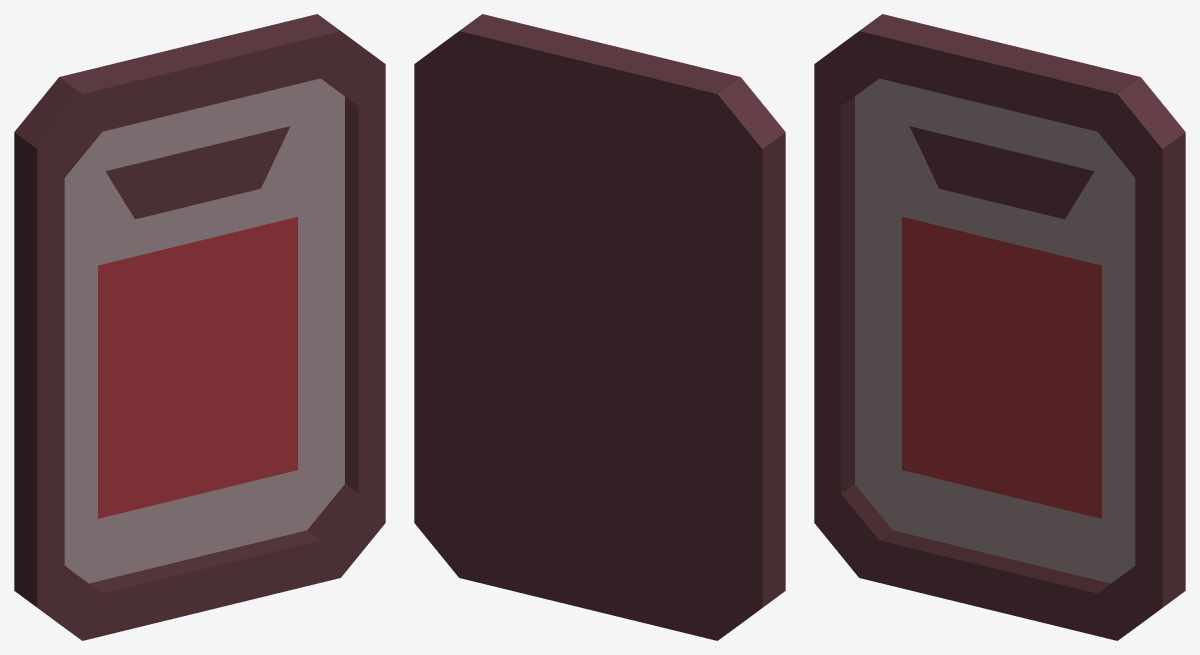
File: scifi-banner-small-vertical.fbx
The picture shows the model from 3 angles, left to right: view 1: azimuth 30°, elevation 25°; view 2: azimuth 150°, elevation 25°; view 3: azimuth 330°, elevation 25°; orthographic projection.
Parts seen in each view (by area): view 1: scifi-banner-small-vertical; view 2: scifi-banner-small-vertical; view 3: scifi-banner-small-vertical.
Part boxes in pixels (x1=…): scifi-banner-small-vertical: x1=14, y1=14, x2=385, y2=640; scifi-banner-small-vertical: x1=414, y1=14, x2=785, y2=640; scifi-banner-small-vertical: x1=814, y1=14, x2=1185, y2=640.
Bounding box in the file's own units: 0.7709 × 1.16 × 0.0893.
